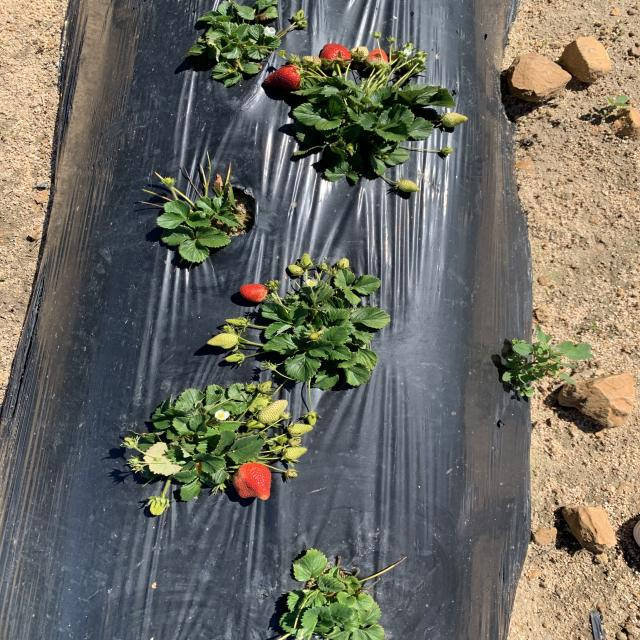unripe: (236, 463, 278, 502), (262, 64, 304, 92), (320, 42, 352, 69), (368, 44, 392, 69), (240, 284, 272, 302)
